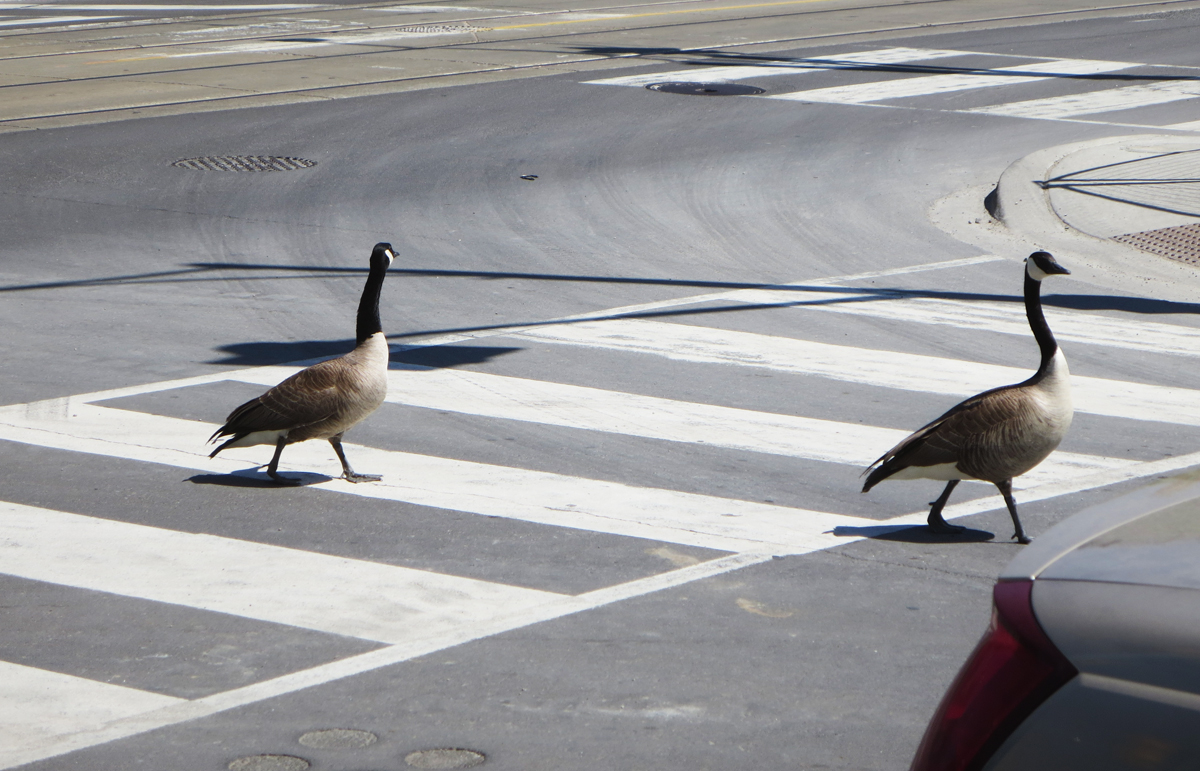goose: (850, 248, 1076, 549), (202, 239, 400, 489)
